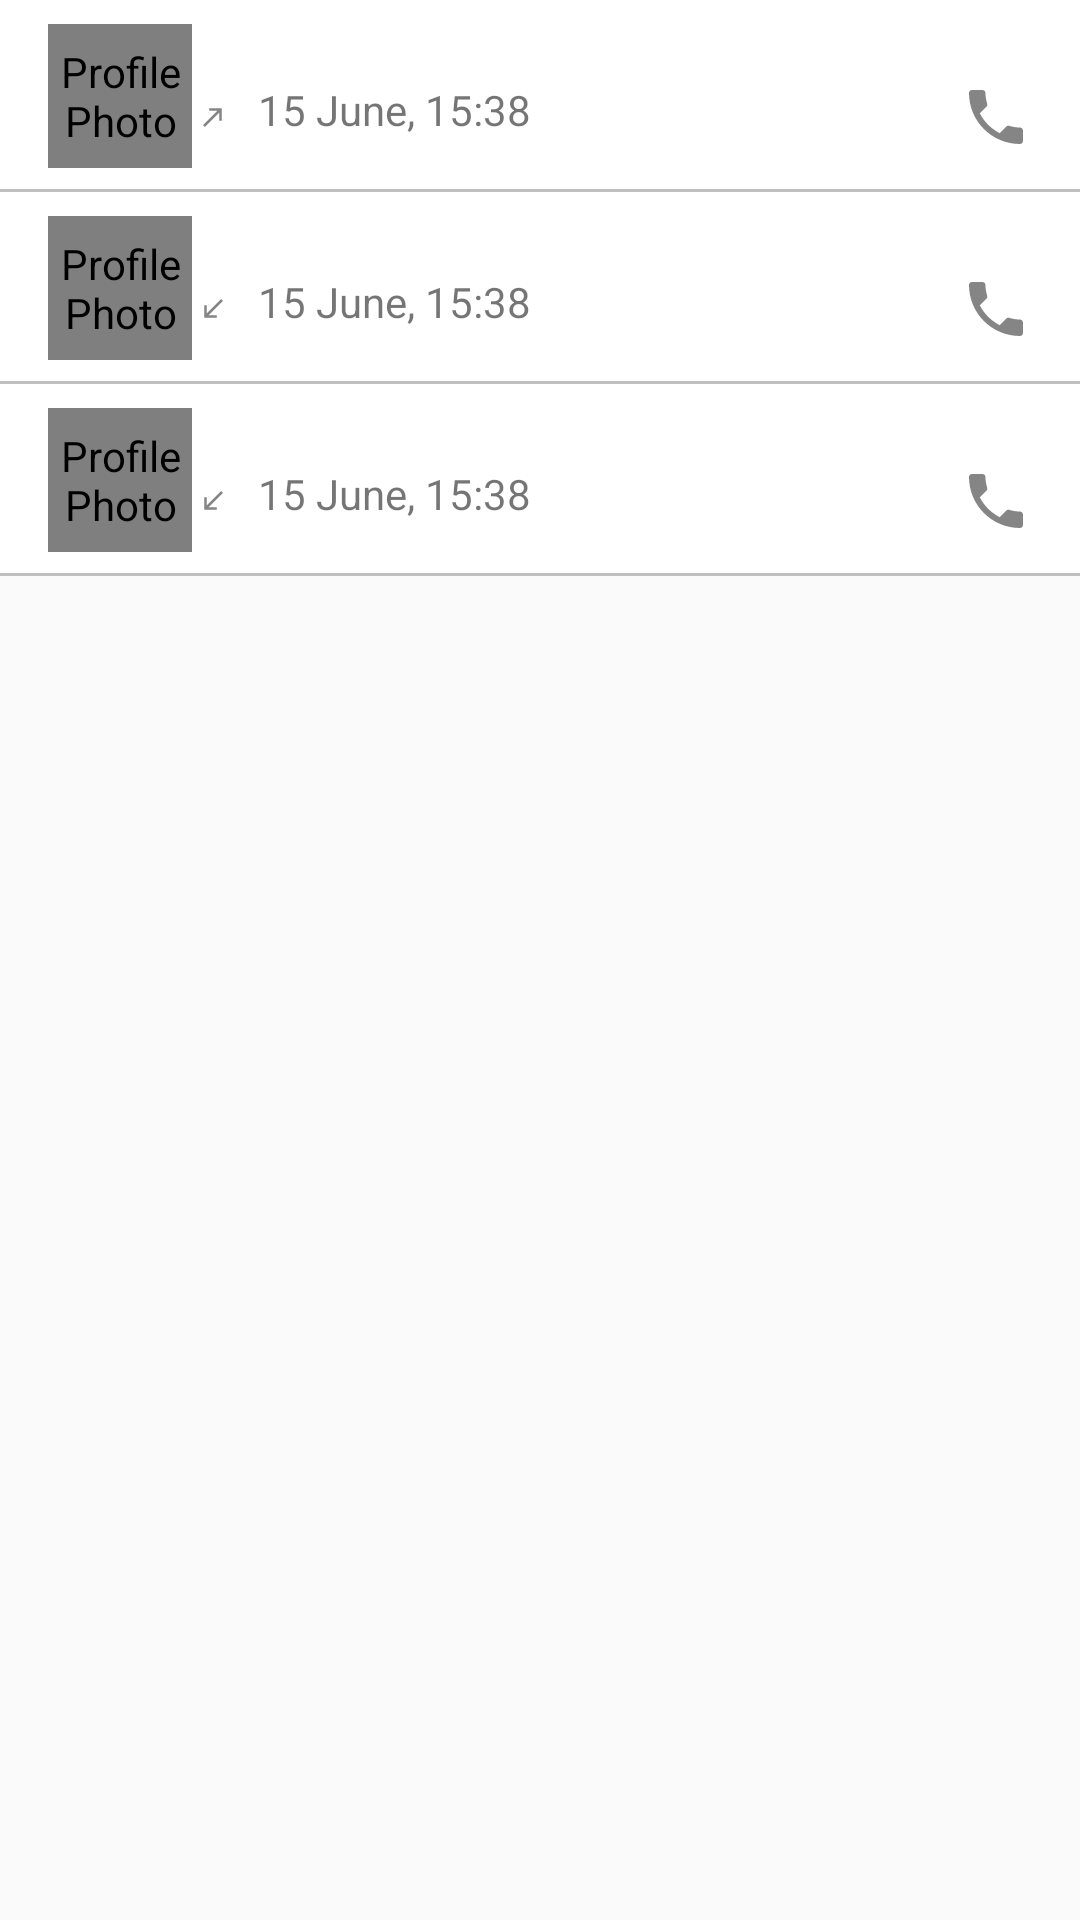

Where to tap for icons on this 1080 x 1920 app screen, as (x,y):
phone: (996,117), (996,309), (996,501)
